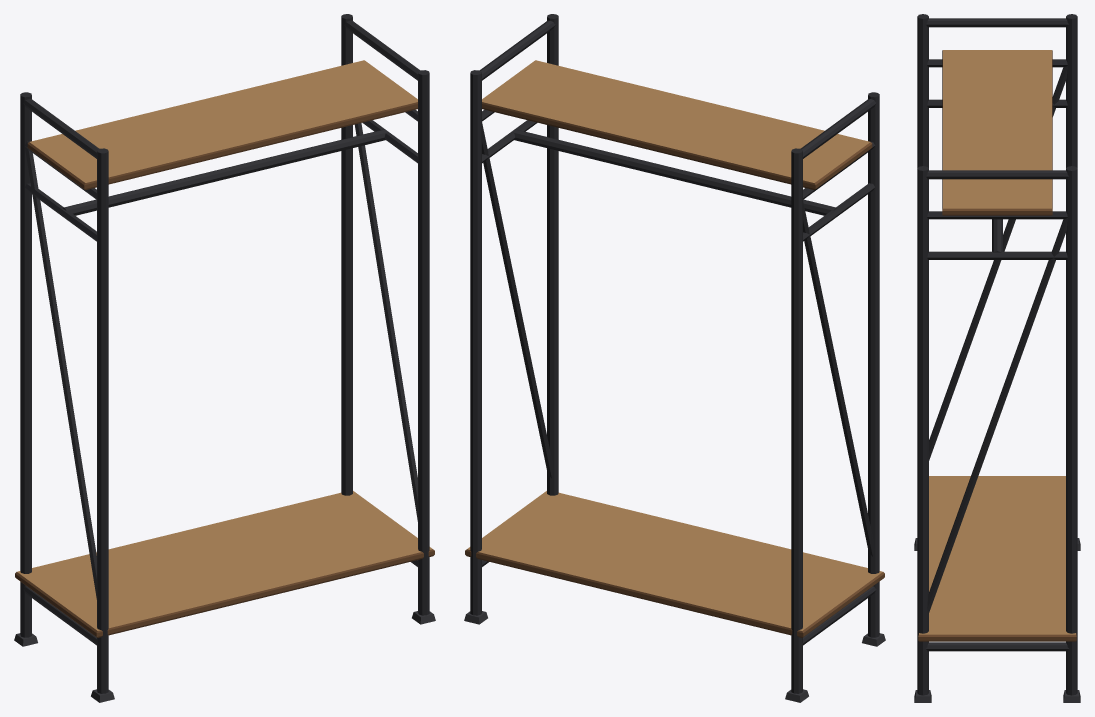
Rendered from FN_Rail_Garment.glb.
The picture shows the model from 3 angles, left to right: view 1: azimuth 30°, elevation 25°; view 2: azimuth 150°, elevation 25°; view 3: azimuth 270°, elevation 25°; orthographic projection. The views are drawn at different scales.
Visible parts, largest first — view 1: FN_Rail_Garment; view 2: FN_Rail_Garment; view 3: FN_Rail_Garment.
Part boxes in pixels (x1,y1,x2,y2): FN_Rail_Garment: (14,14,435,702); FN_Rail_Garment: (464,14,885,702); FN_Rail_Garment: (914,14,1080,702).
Bounding box in the file's own units: 1.1 × 1.7 × 0.482.
1 material, 1 textured.
